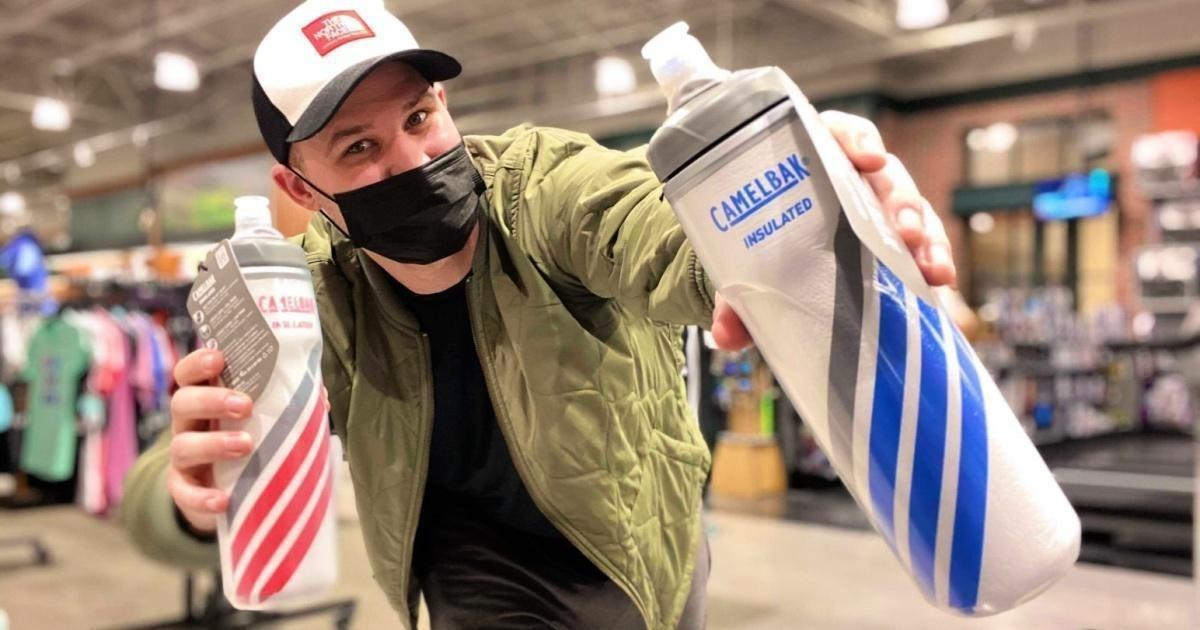gym bottle: (641, 20, 1081, 616), (194, 194, 342, 614)
